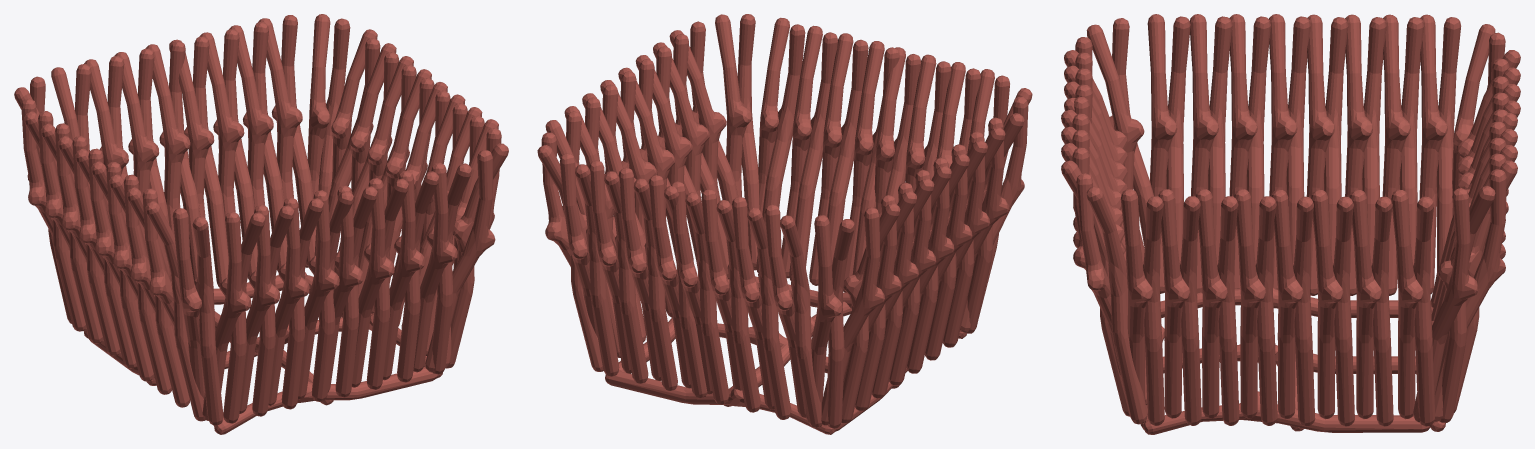
File: basket.fbx
The picture shows the model from 3 angles, left to right: view 1: azimuth 30°, elevation 25°; view 2: azimuth 150°, elevation 25°; view 3: azimuth 270°, elevation 25°; orthographic projection. The views are drawn at different scales.
Visible parts, largest first — view 1: basket; view 2: basket; view 3: basket.
Boxes of the visible parts, box(x1,y1,x2,y2) form: basket: box(14, 14, 508, 434); basket: box(537, 14, 1032, 434); basket: box(1061, 14, 1520, 434).
Size of the model in its own units: 522 by 347 by 533.
